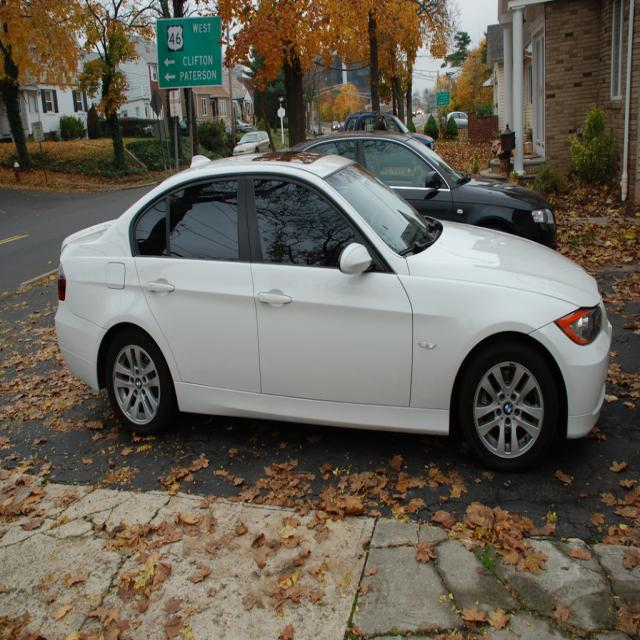car: (48, 145, 616, 479)
